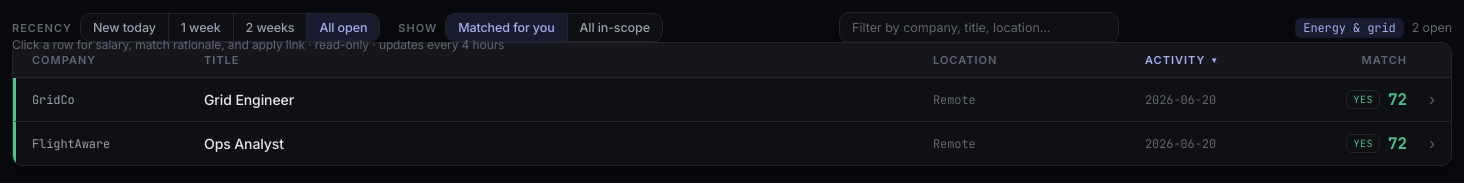
Test: Dashboard › filter-as-you-type narrows rows client-side and shows X of N — no refetch
This screenshot has width=1464, height=183.
Expected: the link "Grid Engineer" is shown, [204,91,294,108]
Type "flight" into the search field named "Filter postings" at x=979, y=28, box [839,12,1119,43]
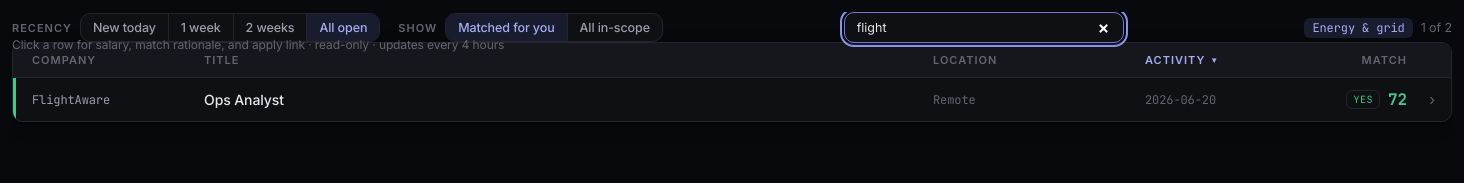
Expected: the link "Ops Analyst" is shown, [204,91,284,108]
Expected: the link "Grid Engineer" is gone
Expected: the text "1 of 2" is shown, [1421,20,1452,35]
Type "zzz" into the search field named "Filter postings" at x=984, y=28, box [844,12,1124,43]
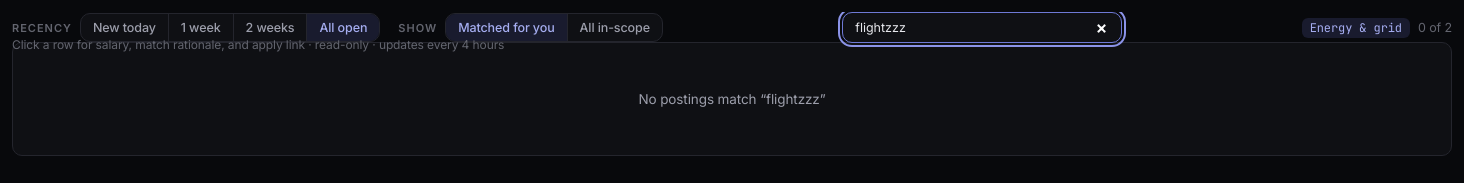
Expected: the text "No postings match “flightzzz”" is shown
